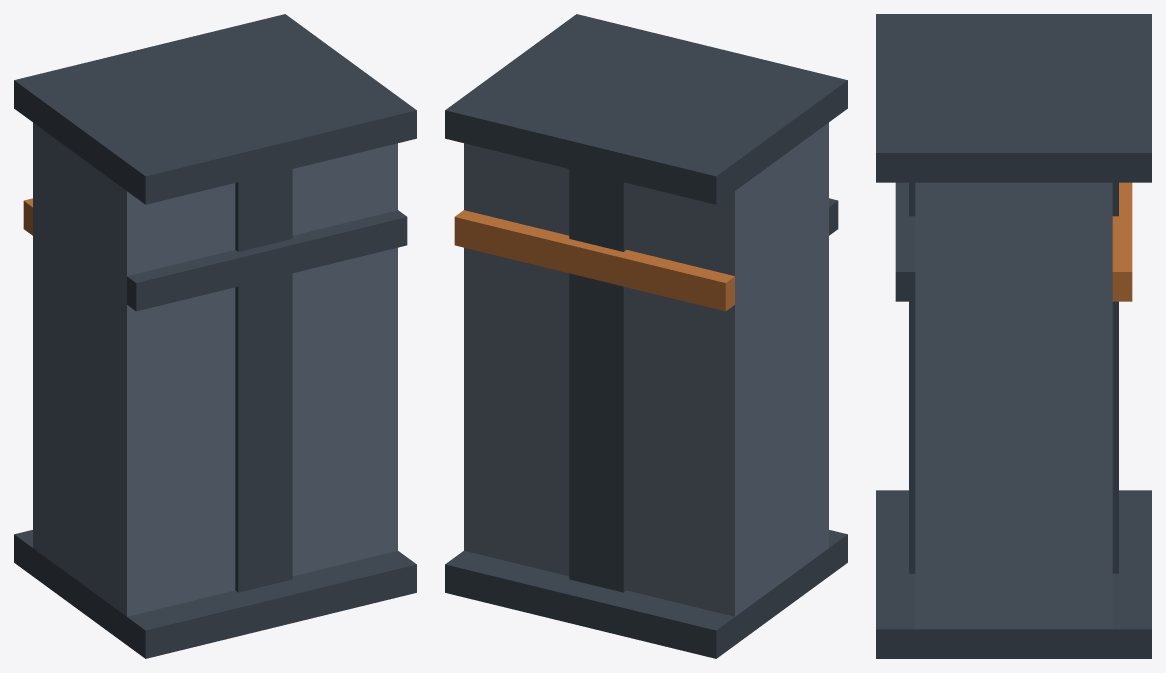
The model's file is pride_monorail_steel.obj.
The picture shows the model from 3 angles, left to right: view 1: azimuth 30°, elevation 25°; view 2: azimuth 150°, elevation 25°; view 3: azimuth 270°, elevation 25°; orthographic projection. The views are drawn at different scales.
Visible parts, largest first — view 1: RAIL_BASE, RAIL_RIGHT; view 2: RAIL_BASE, RAIL_LEFT; view 3: RAIL_BASE, RAIL_LEFT, RAIL_RIGHT.
Boxes of the visible parts, left/top/right/bottom form: RAIL_BASE: left=14, top=14, right=416, bottom=658; RAIL_RIGHT: left=127, top=210, right=407, bottom=311; RAIL_BASE: left=445, top=14, right=847, bottom=658; RAIL_LEFT: left=454, top=210, right=734, bottom=311; RAIL_BASE: left=876, top=14, right=1151, bottom=658; RAIL_LEFT: left=1112, top=182, right=1132, bottom=301; RAIL_RIGHT: left=895, top=182, right=915, bottom=301.
Size of the model in its own units: 1 by 1.7 by 0.84.
1 material, 1 textured.
